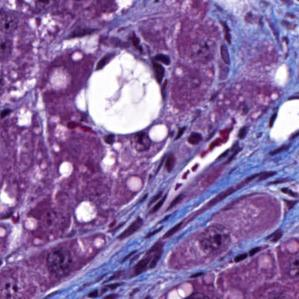ballooning: (83, 45, 165, 138)
